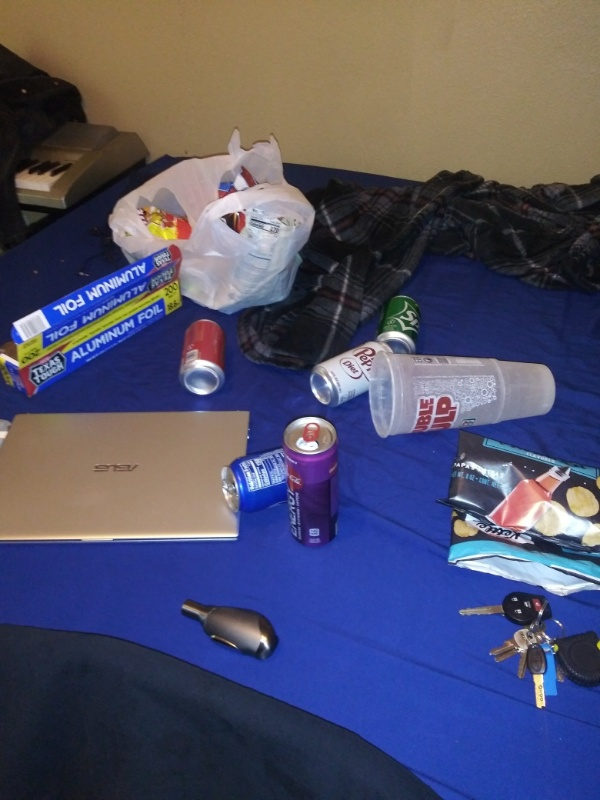can: (281, 416, 342, 549), (217, 442, 314, 514), (308, 340, 394, 409), (177, 317, 228, 398), (376, 293, 425, 358)
